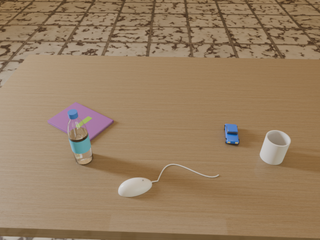book: (48, 102, 113, 141)
bottle: (67, 109, 93, 164)
cup: (260, 130, 291, 165)
mouse: (118, 178, 152, 197)
toy_car: (224, 124, 239, 144)
